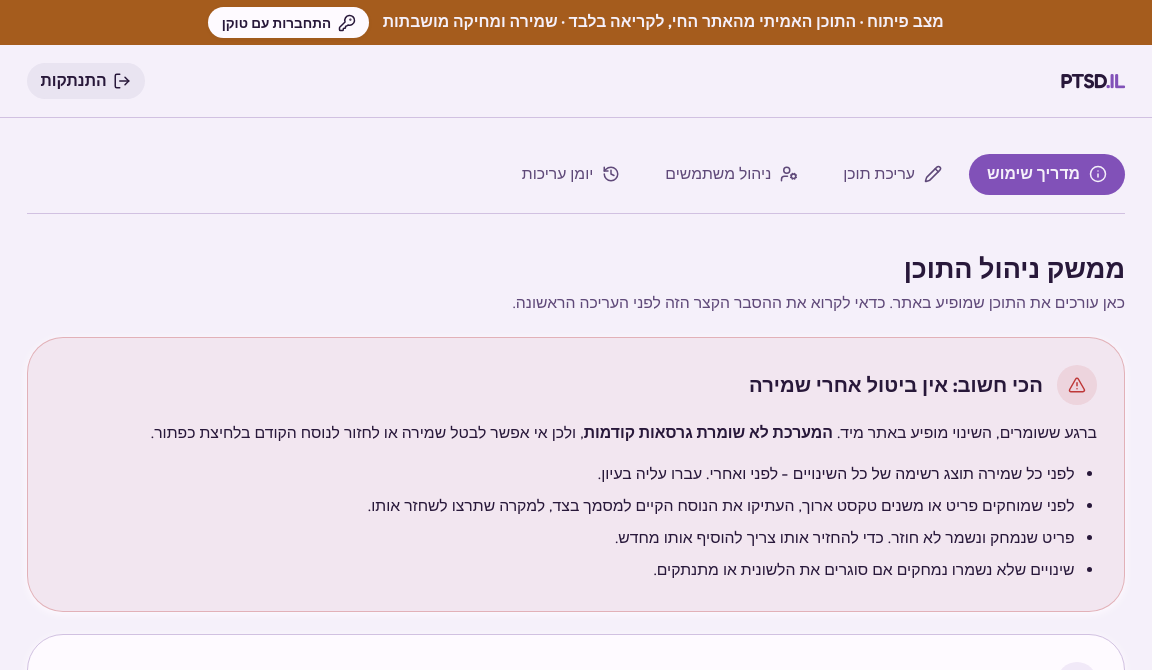
Test: admin: edits are staged, then saved together › a delete is staged too, not sent on the spot
Click the button "עריכת תוכן": {"x": 893, "y": 174} [825,154,960,194]
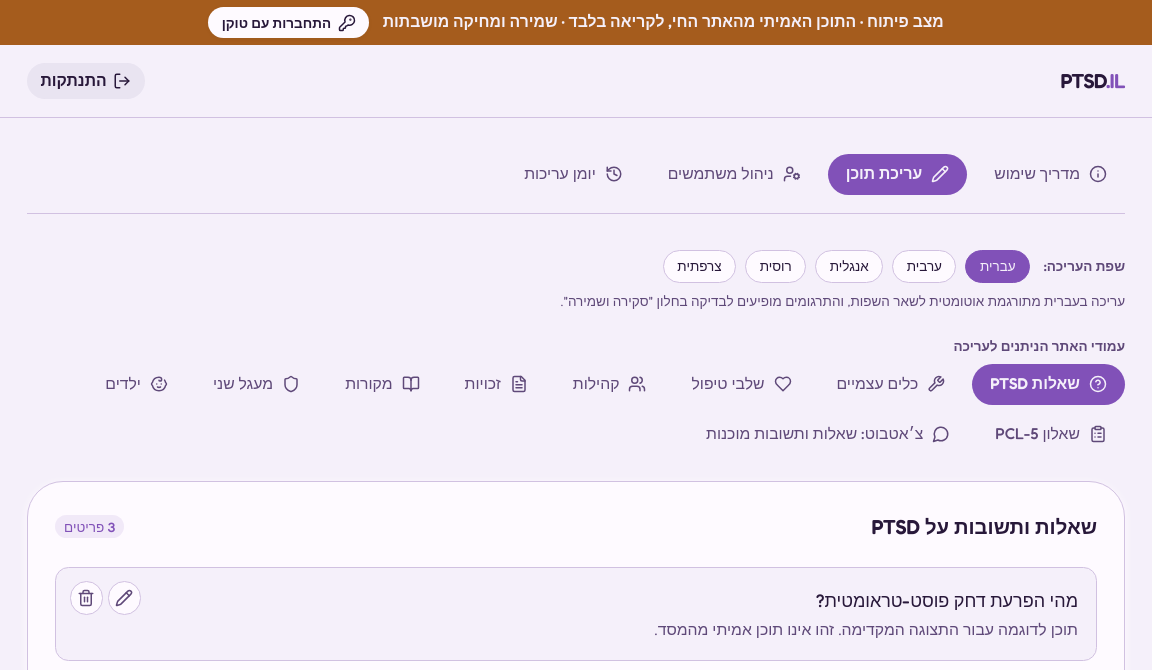
Now the text "מהי הפרעת דחק פוסט-טראומטית?" is shown, box [816,589,1078,611]
Click the button titled "מחיקה" in the row of "מהי הפרעת דחק פוסט-טראומטית?": {"x": 86, "y": 598} [70,581,103,615]
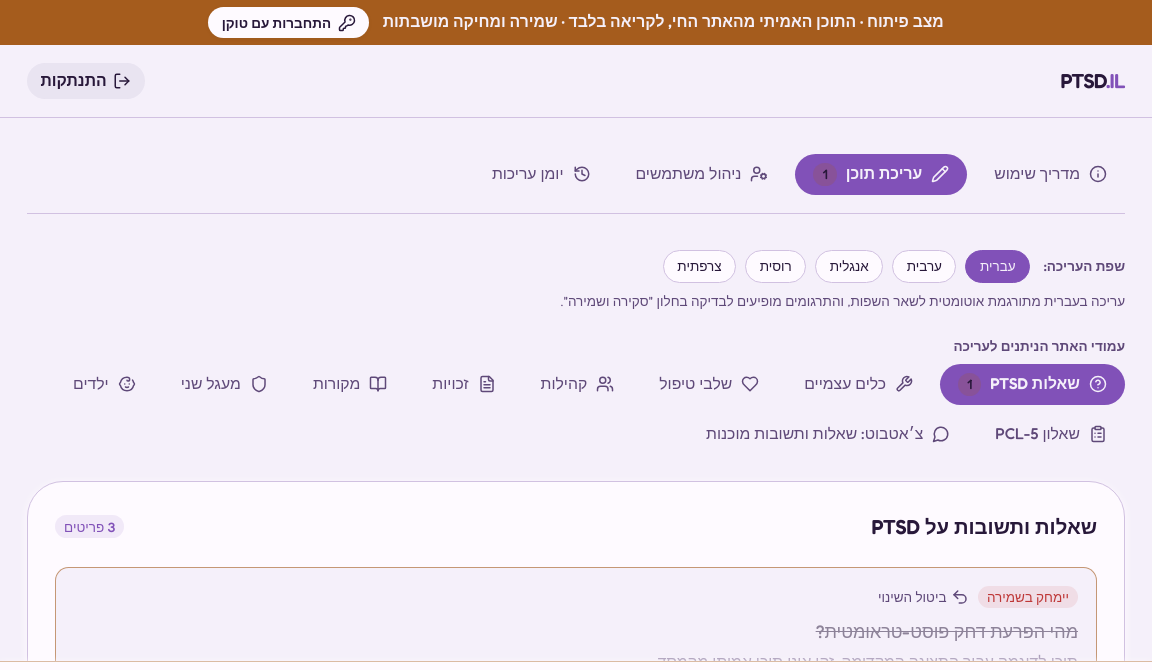
Now the text "מהי הפרעת דחק פוסט-טראומטית?" is shown, box [816,620,1078,642]
Now the text "יימחק בשמירה" is shown, box [978,586,1078,608]
